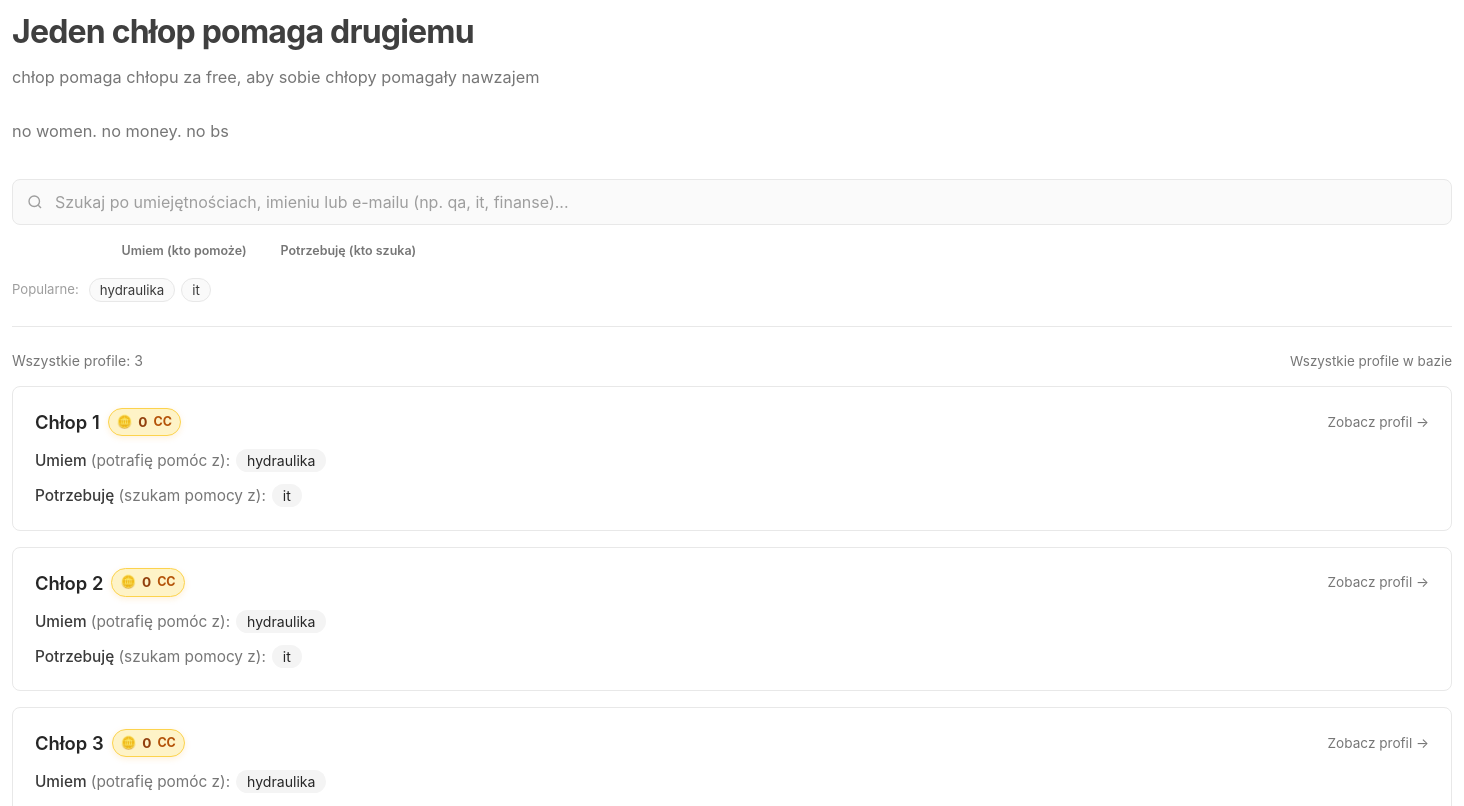
Test: HomeView: wyszukiwarka i filtry › chip popularnej umiejętności wpisuje frazę, a drugie kliknięcie ją czyści
Click the button "hydraulika" next to "Popularne:".
click(132, 290)  # box [89,278,175,302]
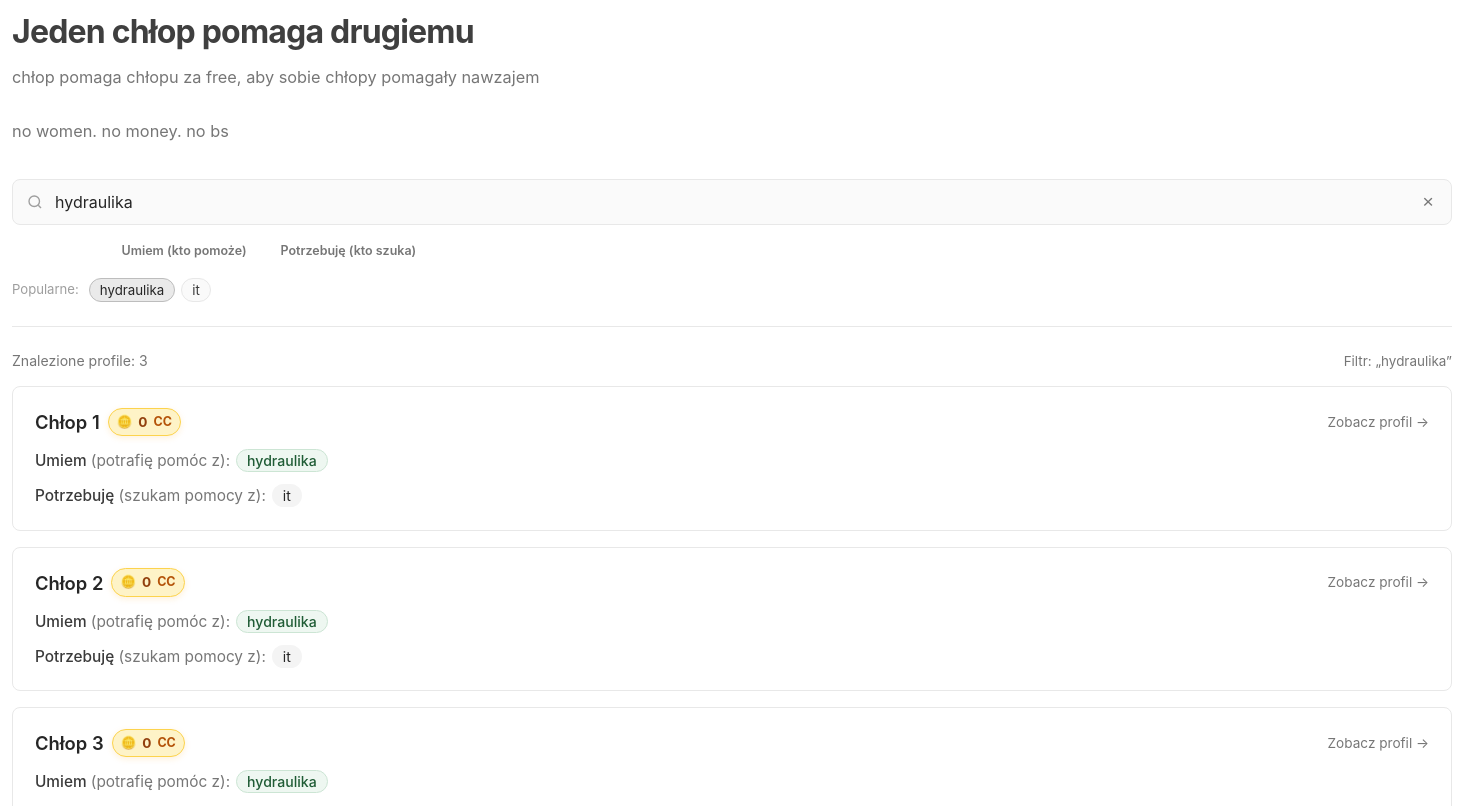
Expected: the search field with id "search-input" holds "hydraulika", [12,179,1452,225]
Click the button "hydraulika" next to "Popularne:".
click(132, 290)  # box [89,278,175,302]
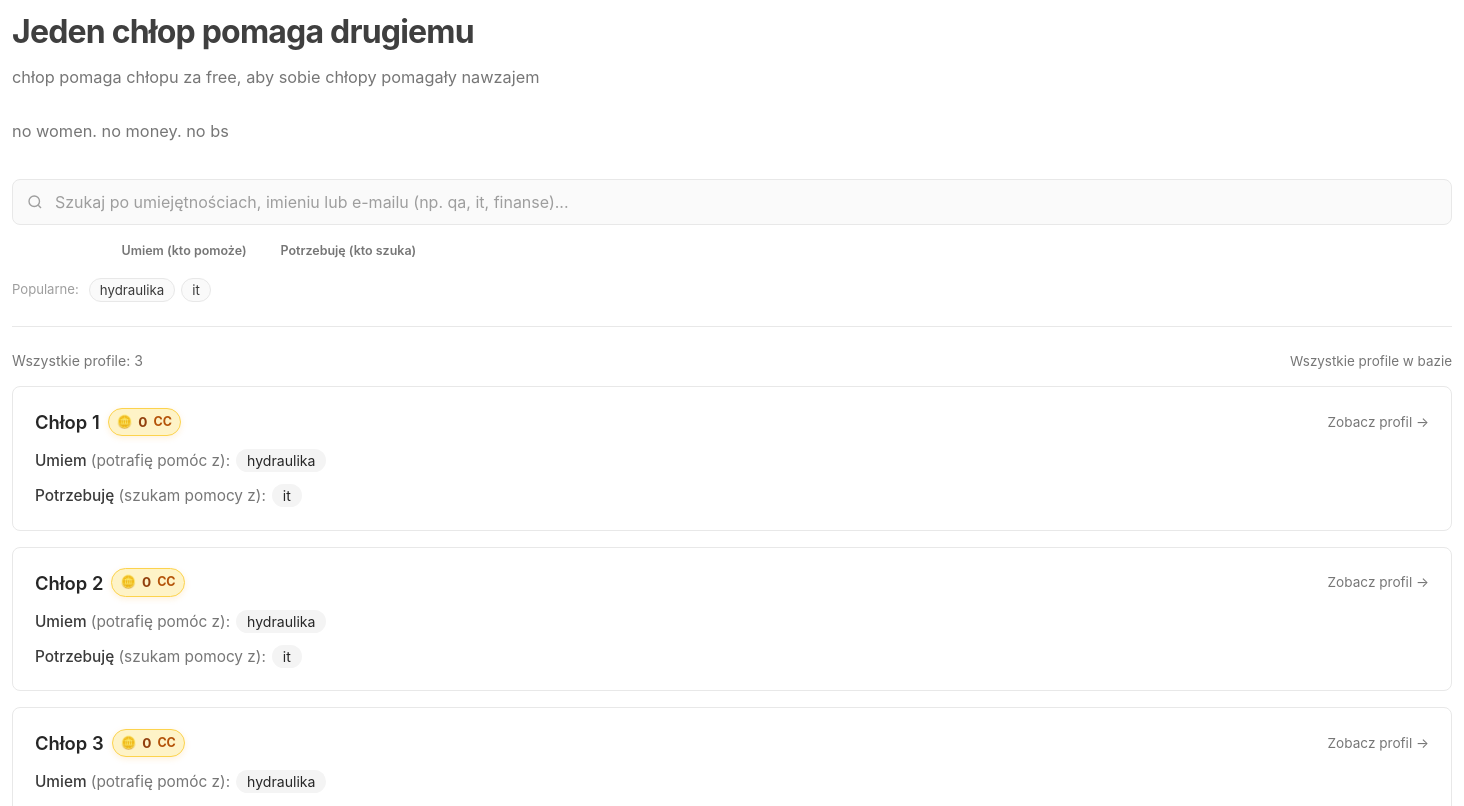
Expected: the search field with id "search-input" is empty, [12,179,1452,225]
